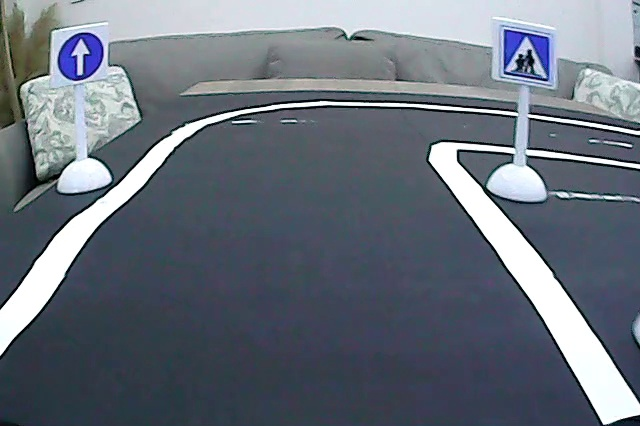school crossing: (499, 24, 551, 82)
